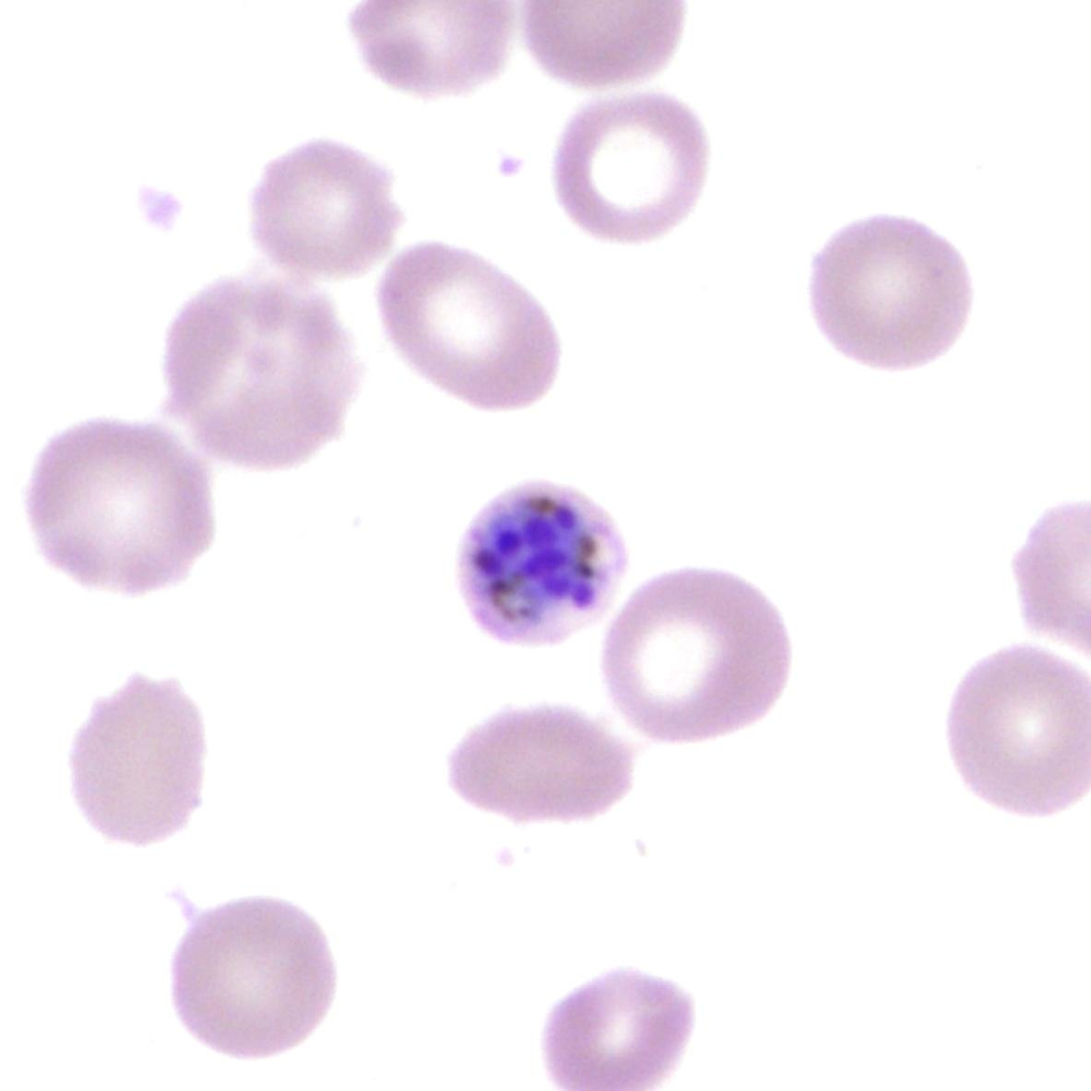Infected: (455, 471, 624, 653)
Uninfected: (163, 275, 358, 475), (34, 416, 222, 600), (599, 567, 788, 746), (378, 235, 561, 417), (166, 893, 329, 1066), (805, 213, 977, 368), (65, 665, 202, 852), (947, 640, 1091, 815), (443, 708, 638, 824), (556, 93, 706, 239), (249, 142, 399, 286), (538, 960, 698, 1091)
